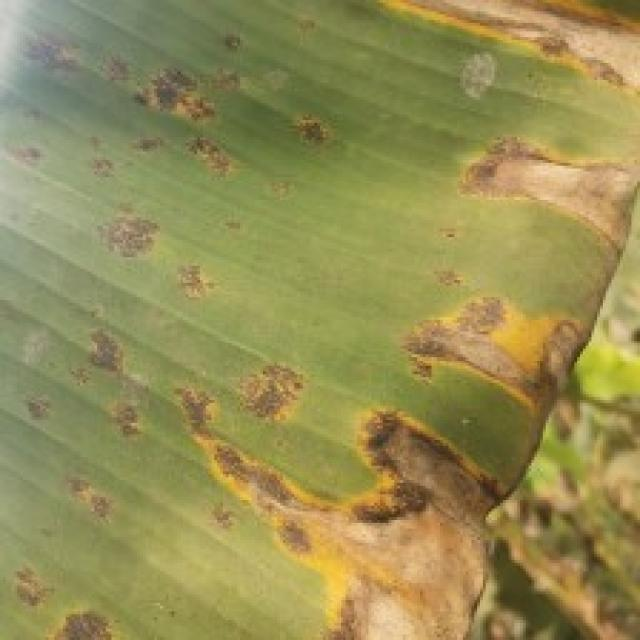Downey_mildrew: (0, 320, 503, 640), (385, 1, 640, 488), (0, 14, 352, 311)
